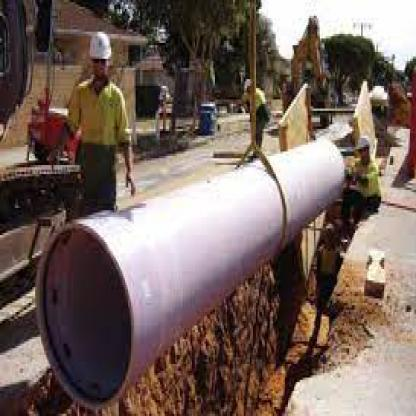PVC: (37, 137, 343, 410)
